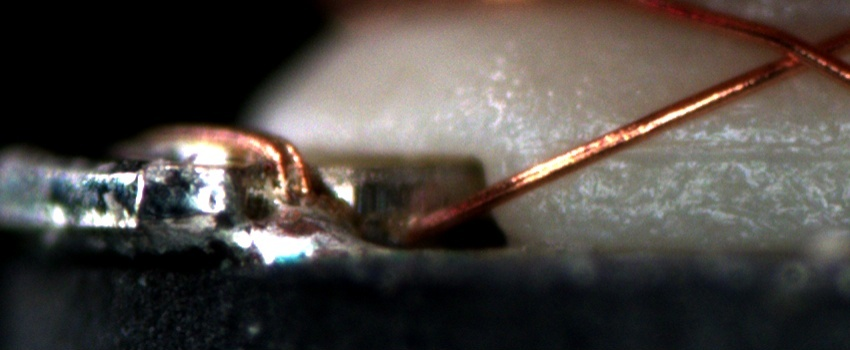CL: (763, 24, 844, 78)
DL: (546, 122, 850, 186)
TE: (138, 114, 329, 219)
